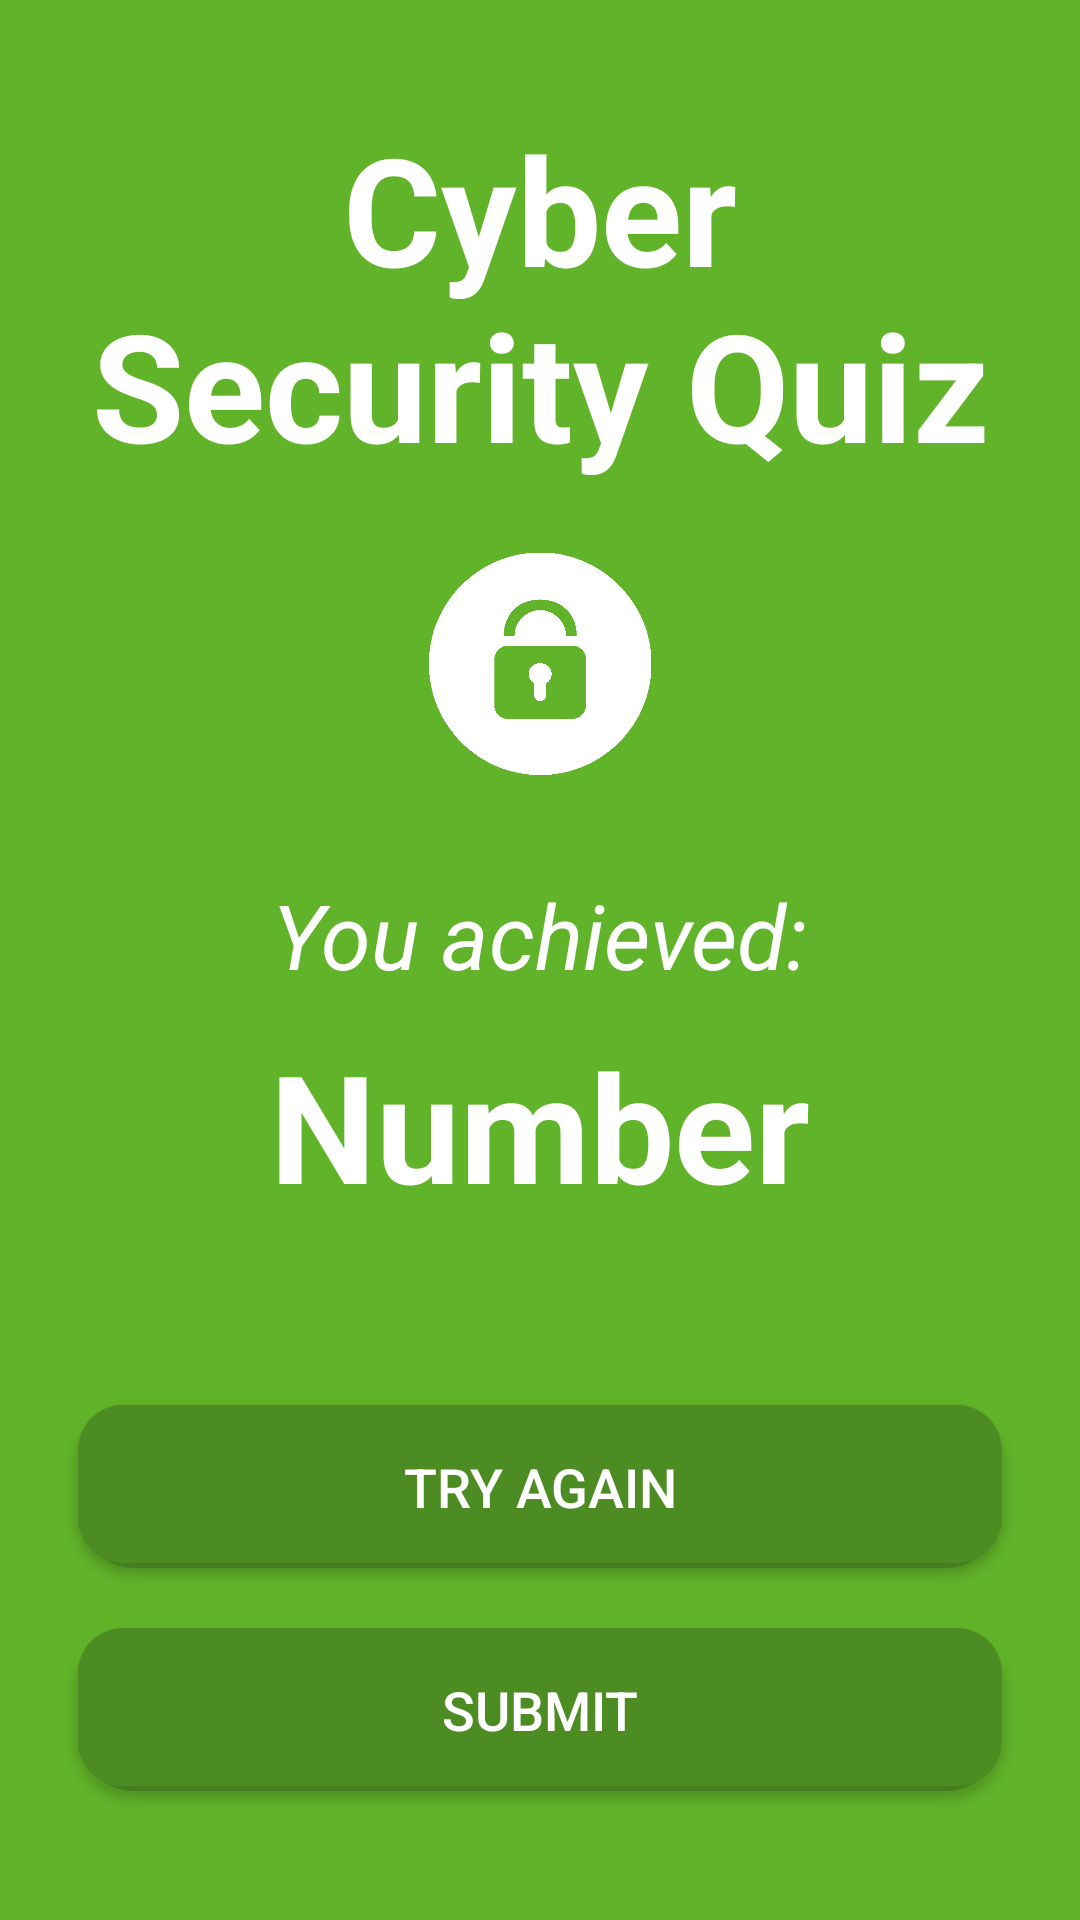

Screen size 1080px x 1920px. Icon name, then its center in pixels as point (x, y):
lockwhite: point (540, 664)
